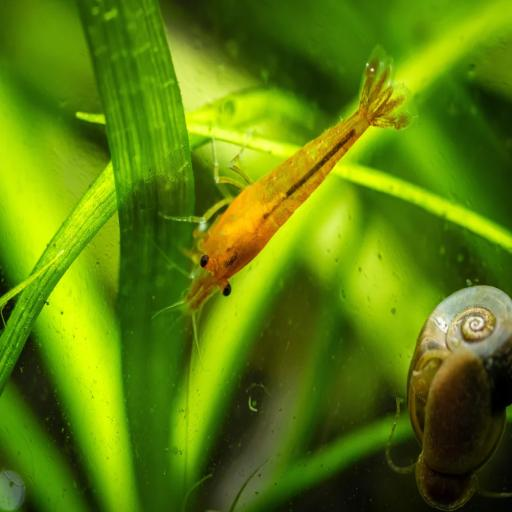Shrimp: (147, 36, 419, 340)
Snail: (391, 279, 512, 512)
